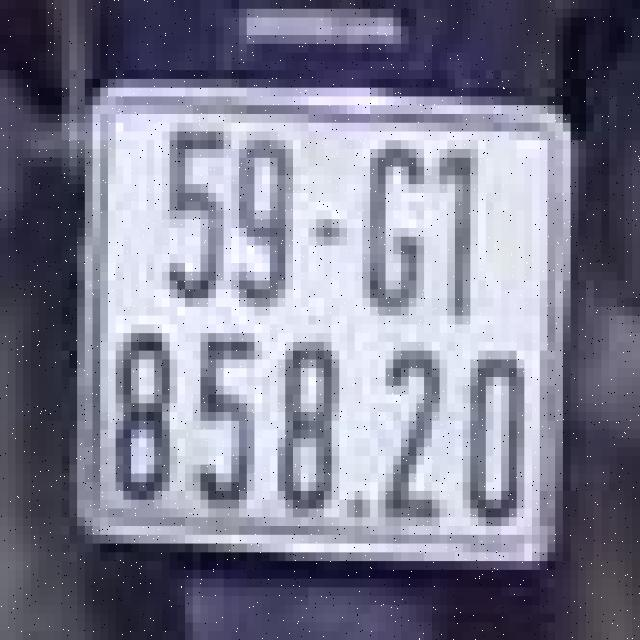0: (467, 351, 528, 526)
1: (432, 144, 486, 328)
2: (378, 342, 447, 526)
5: (189, 324, 258, 508), (162, 123, 224, 298)
8: (274, 333, 343, 517), (112, 324, 173, 500)
9: (235, 131, 297, 307)
G: (359, 140, 428, 316)
